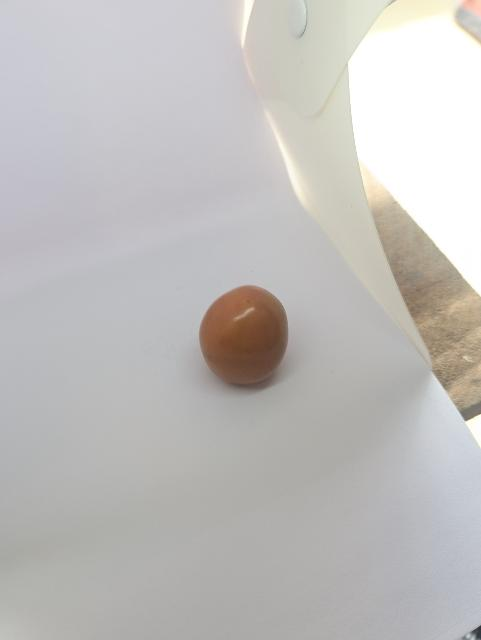turning: (198, 268, 294, 391)
